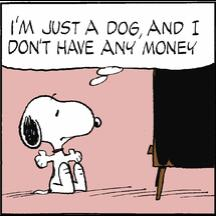snoopy: (18, 93, 102, 197)
